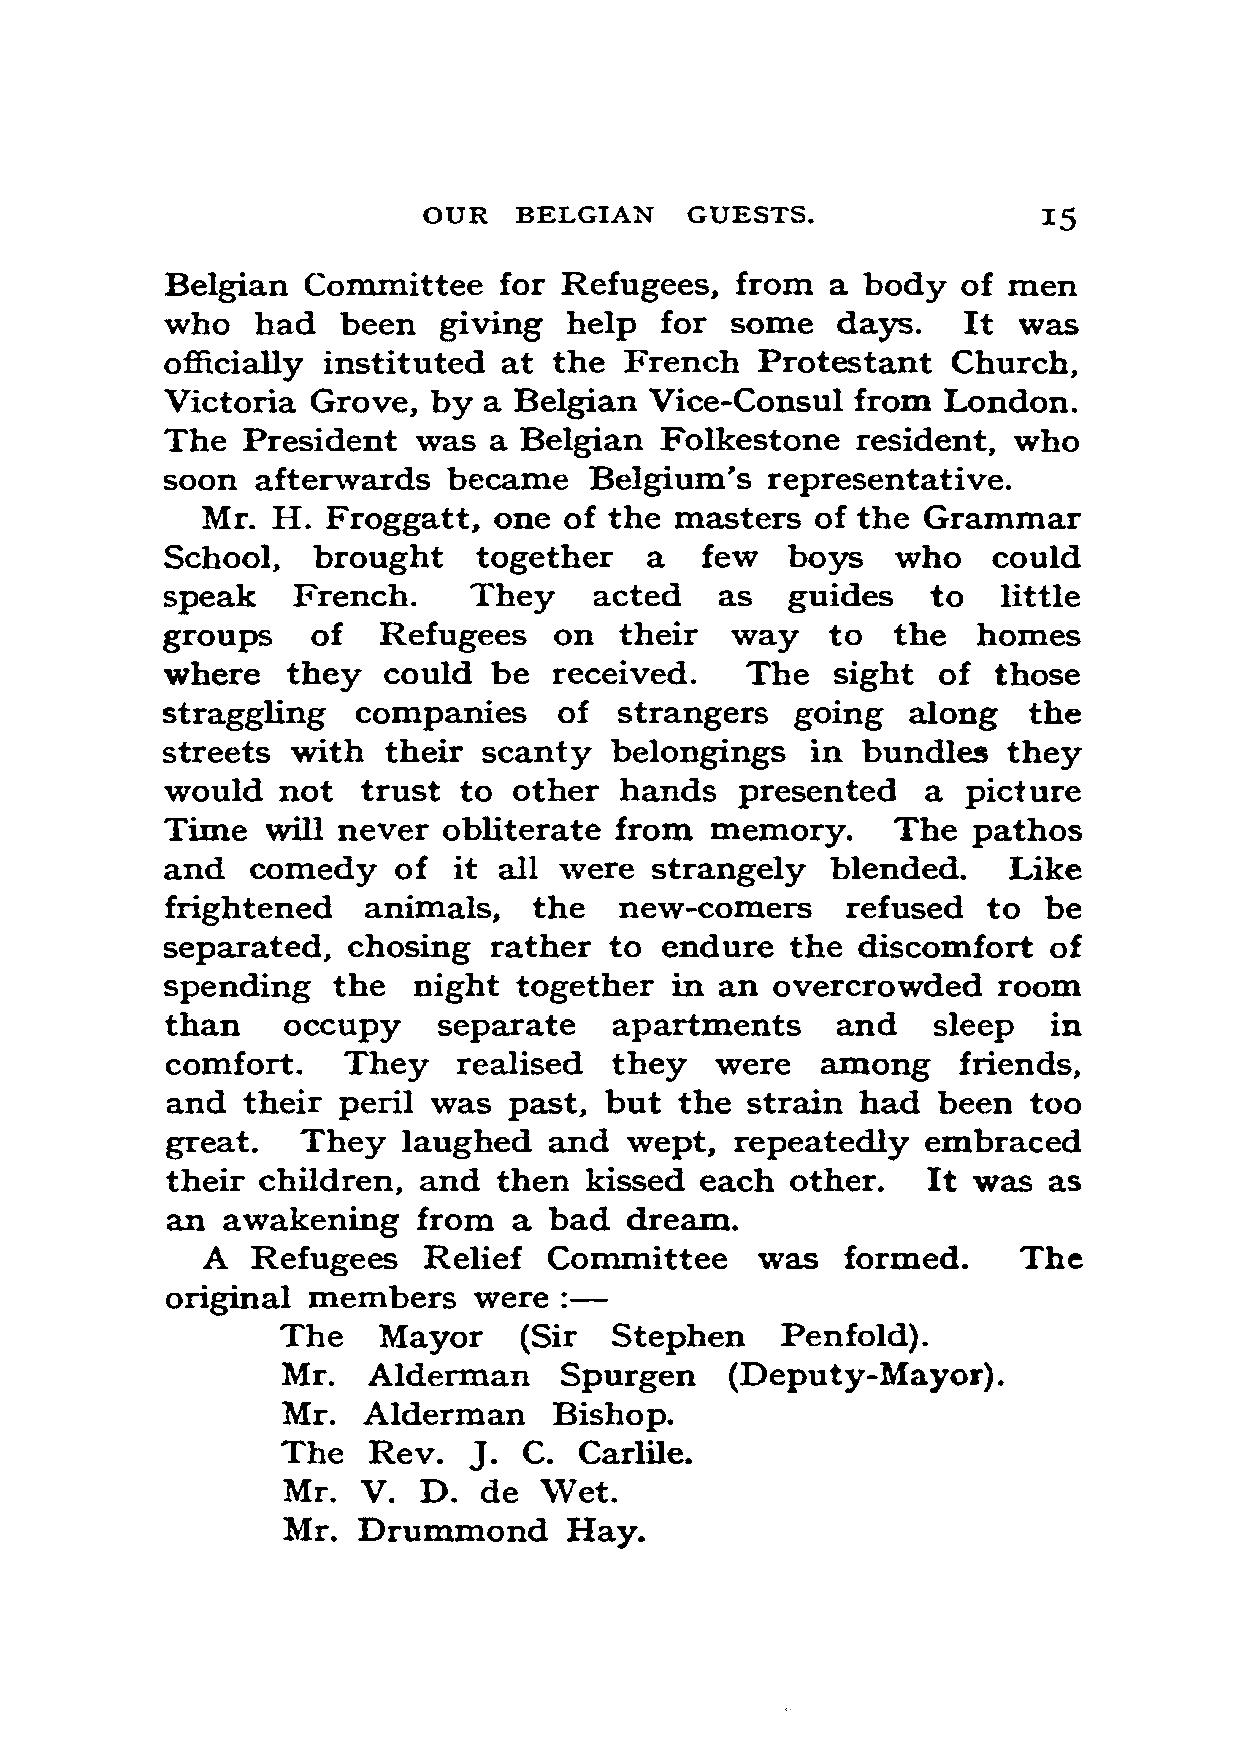content: (160, 259, 1088, 1555)
content_chapter: (416, 203, 819, 225)
content_pagenumber: (1031, 197, 1082, 238)
